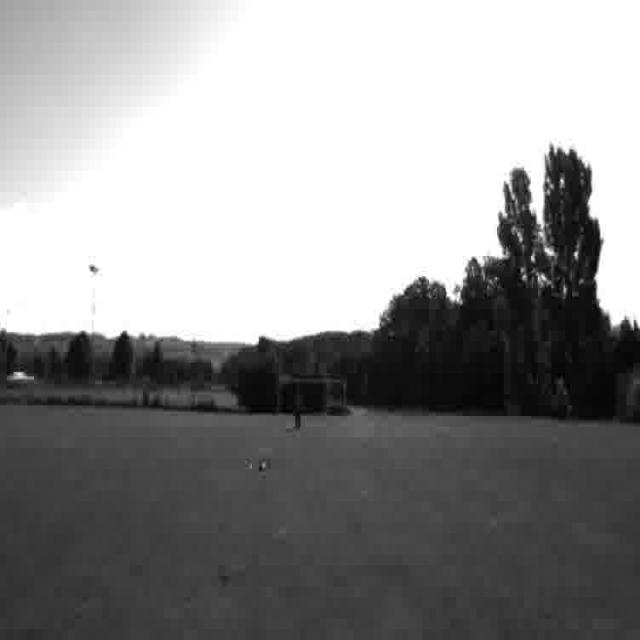drones: (242, 447, 278, 483)
